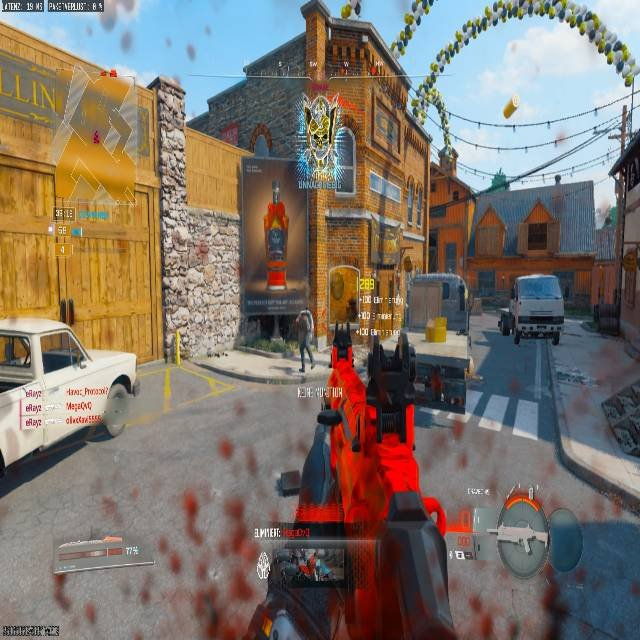player: (295, 309, 316, 371)
